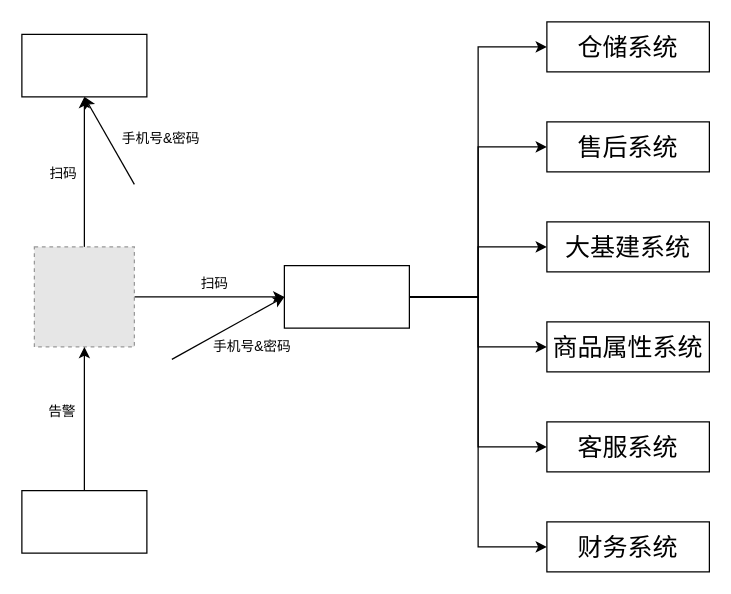
This 731x594 diagram has some shape labels left out. Grey dashed boxes stand in for pictures. Here are the shapes that lost their labels. From the top down, the centre of each, then its label:
At point 84,65: "ZljOA".
At point 346,296: "ZljAuth".
At point 84,521: "上门回收".
